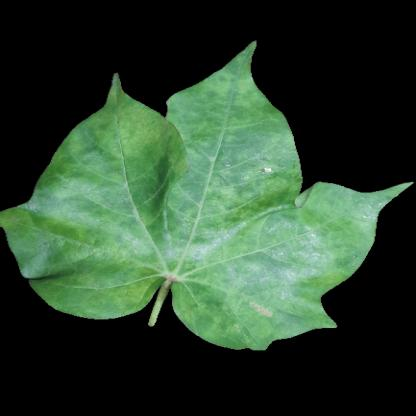curl_stage1: (90, 124, 242, 286), (176, 282, 296, 346), (302, 209, 353, 285), (13, 209, 87, 248), (209, 74, 263, 122), (103, 123, 161, 162)
healthy: (22, 253, 77, 299)
